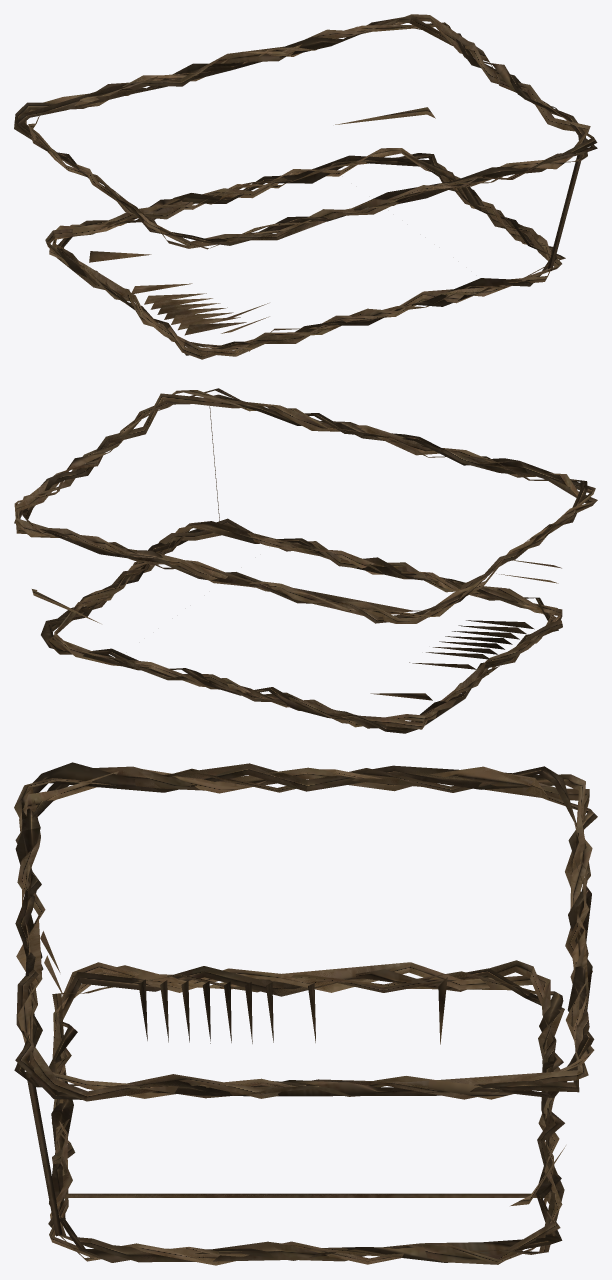
3 views of the same model, one above another, from view 1: azimuth 30°, elevation 25°; view 2: azimuth 150°, elevation 25°; view 3: azimuth 270°, elevation 25° (orthographic). The views are drawn at different scales.
Parts seen in each view (by area): view 1: wicker_basket_01; view 2: wicker_basket_01; view 3: wicker_basket_01.
Part boxes in pixels (x1=…): wicker_basket_01: x1=14, y1=14, x2=597, y2=359; wicker_basket_01: x1=14, y1=388, x2=597, y2=733; wicker_basket_01: x1=14, y1=762, x2=597, y2=1265.
Bounding box in the file's own units: 0.3819 × 0.1172 × 0.2928.
1 material, 1 textured.
